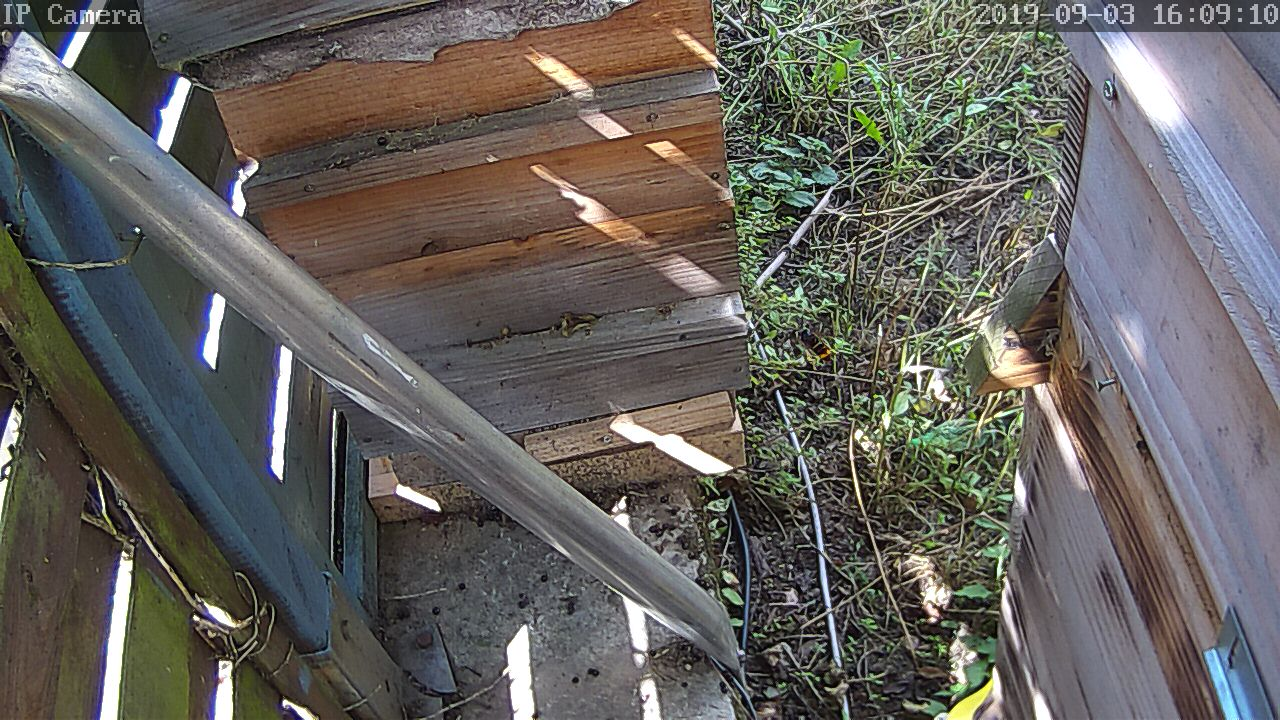hornet: (789, 322, 842, 370)
